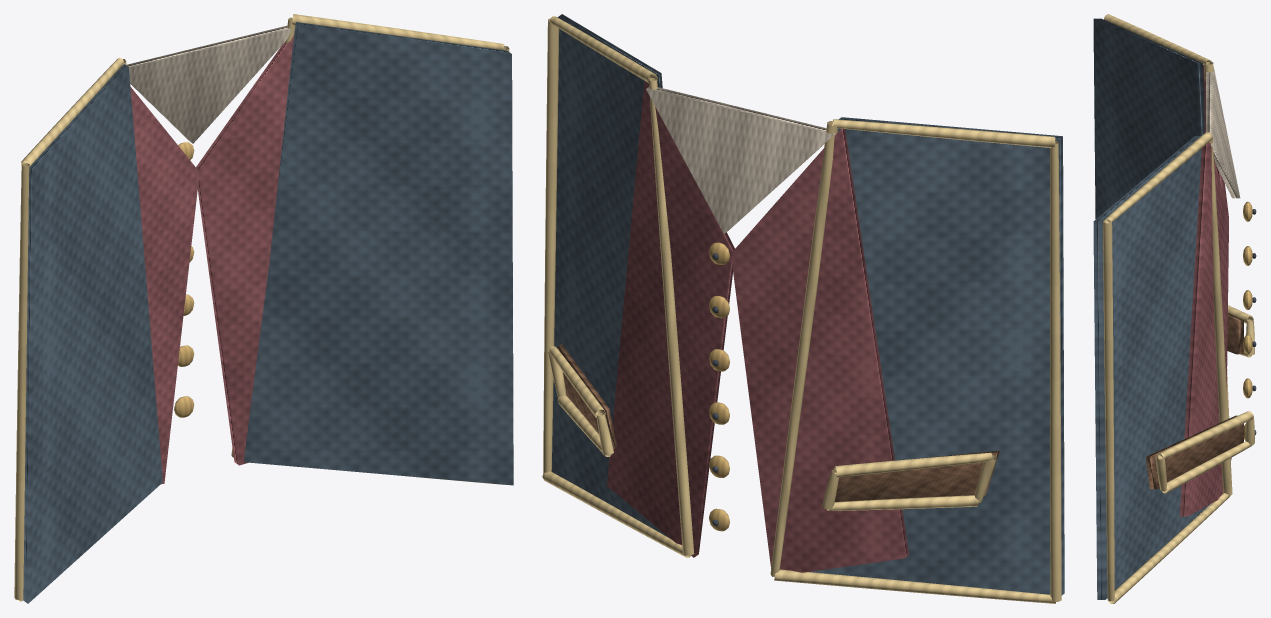
File: outfit_vest.glb
The picture shows the model from 3 angles, left to right: view 1: azimuth 30°, elevation 25°; view 2: azimuth 150°, elevation 25°; view 3: azimuth 270°, elevation 25°; orthographic projection. The views are drawn at different scales.
Parts seen in each view (by area): view 1: outfit_vest; view 2: outfit_vest; view 3: outfit_vest.
Part boxes in pixels (x1,y1,x2,y2): outfit_vest: (14,14,513,603); outfit_vest: (542,14,1064,603); outfit_vest: (1093,14,1256,603).
Size of the model in its own units: 1.32 by 1.2 by 0.4349.
7 materials, 7 textured.
